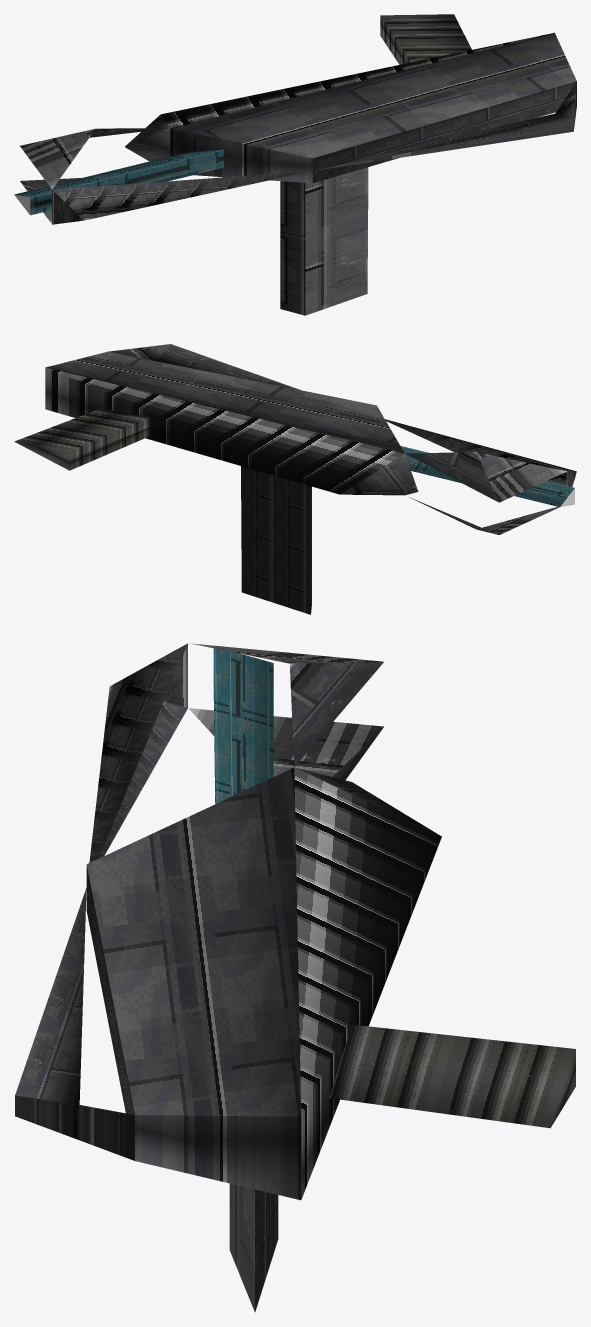
The model's file is 16-devastator-tp.glb.
3 renders of one model, top to bottom at view 1: azimuth 30°, elevation 25°; view 2: azimuth 150°, elevation 25°; view 3: azimuth 270°, elevation 25°, orthographic. The views are drawn at different scales.
Visible parts, largest first — view 1: gun; view 2: gun; view 3: gun.
Boxes of the visible parts, left/top/right/bottom form: gun: left=14, top=14, right=576, bottom=315; gun: left=14, top=344, right=576, bottom=614; gun: left=15, top=643, right=575, bottom=1312.
Size of the model in its own units: 611 by 237 by 292.
Materials: 10 (10 with a texture image).
